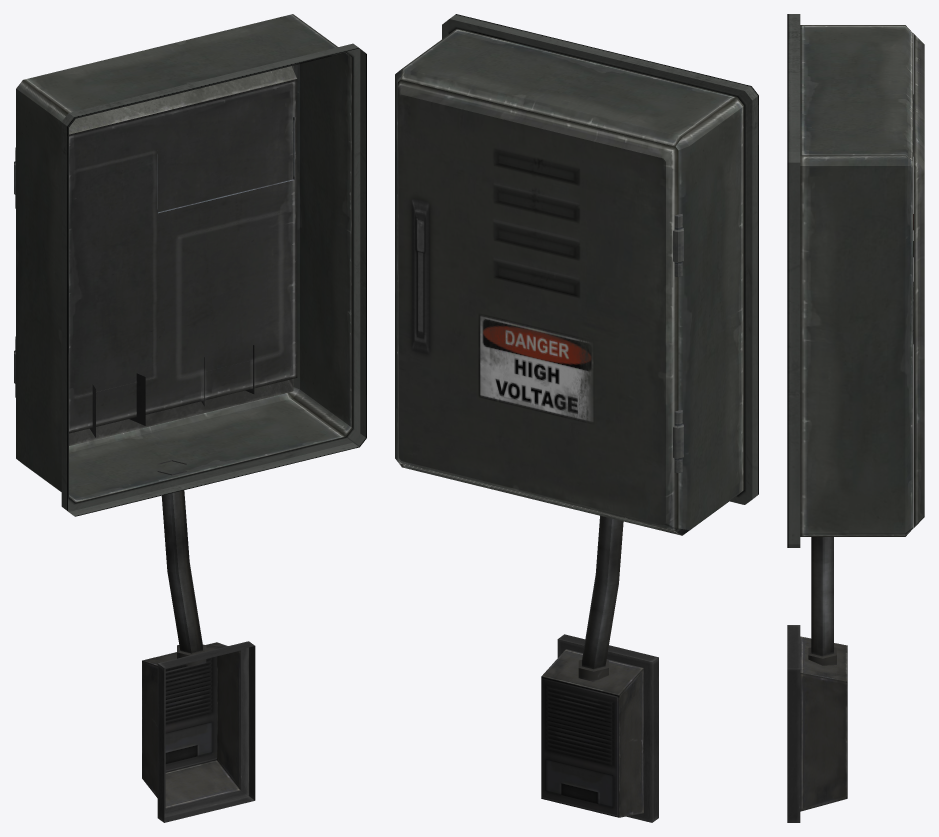
File: fusebox3_fbx.FBX
3 views of the same model, side by side, from view 1: azimuth 30°, elevation 25°; view 2: azimuth 150°, elevation 25°; view 3: azimuth 270°, elevation 25° (orthographic). The views are drawn at different scales.
Parts seen in each view (by area): view 1: fusebox3_body; view 2: fusebox_cover, fusebox3_body; view 3: fusebox3_body, fusebox_cover.
Part boxes in pixels (x1=…): fusebox3_body: x1=14, y1=14, x2=366, y2=822; fusebox_cover: x1=398, y1=80, x2=678, y2=530; fusebox3_body: x1=395, y1=14, x2=758, y2=822; fusebox3_body: x1=787, y1=14, x2=913, y2=822; fusebox_cover: x1=913, y1=33, x2=924, y2=528.
Size of the model in its own units: 52.24 by 121 by 20.94.
